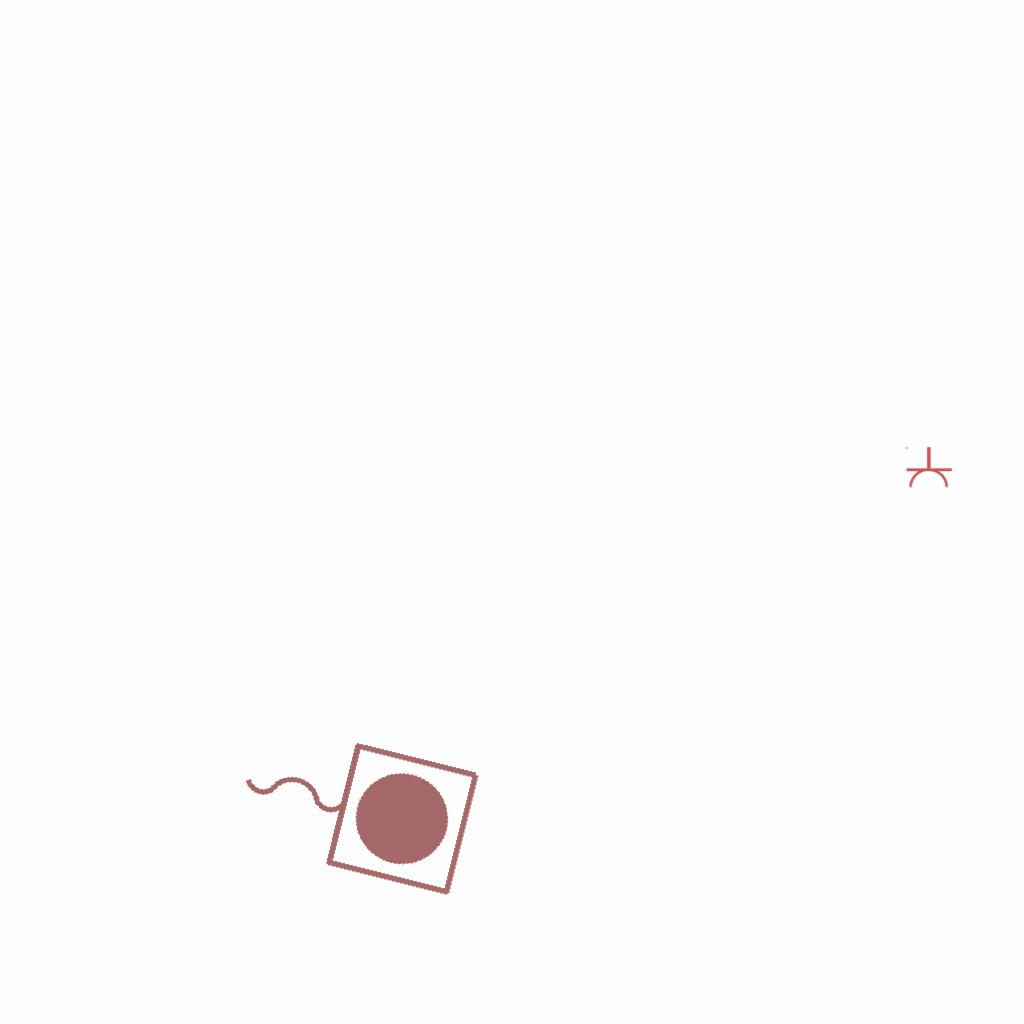Schukosteckdose_einfach: (903, 446, 953, 489)
Zugtaster: (218, 705, 490, 905)
